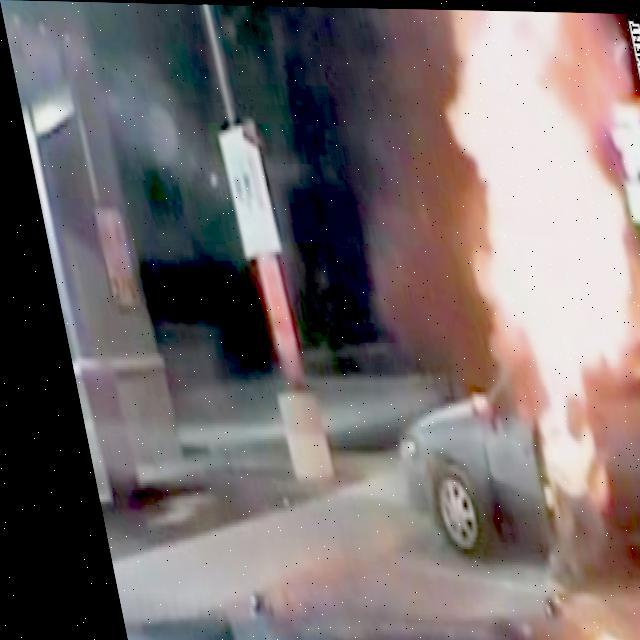Fire: (423, 27, 639, 542)
